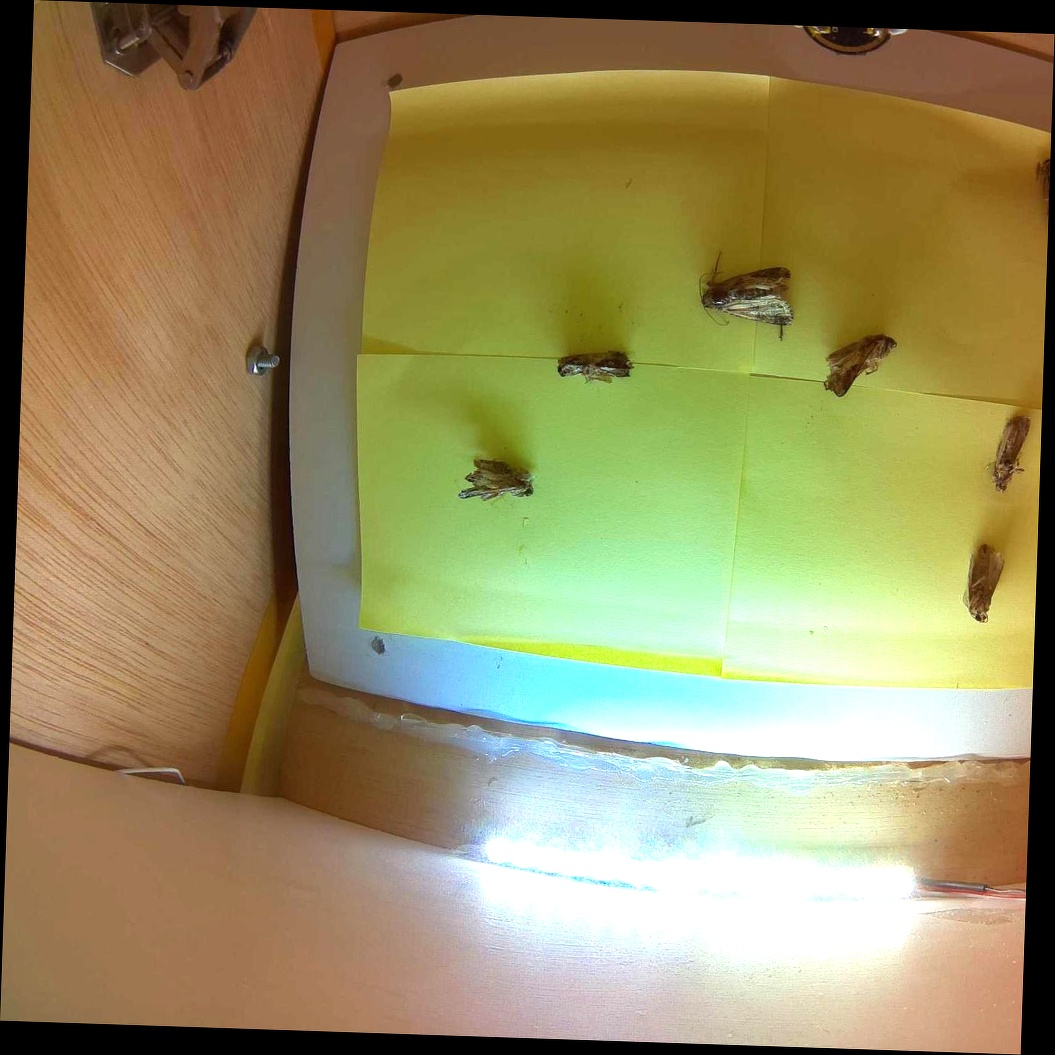Spodoptera litura: (697, 252, 795, 339), (821, 335, 896, 398), (459, 460, 536, 504), (965, 544, 1007, 624), (991, 414, 1030, 494), (557, 352, 634, 384)
